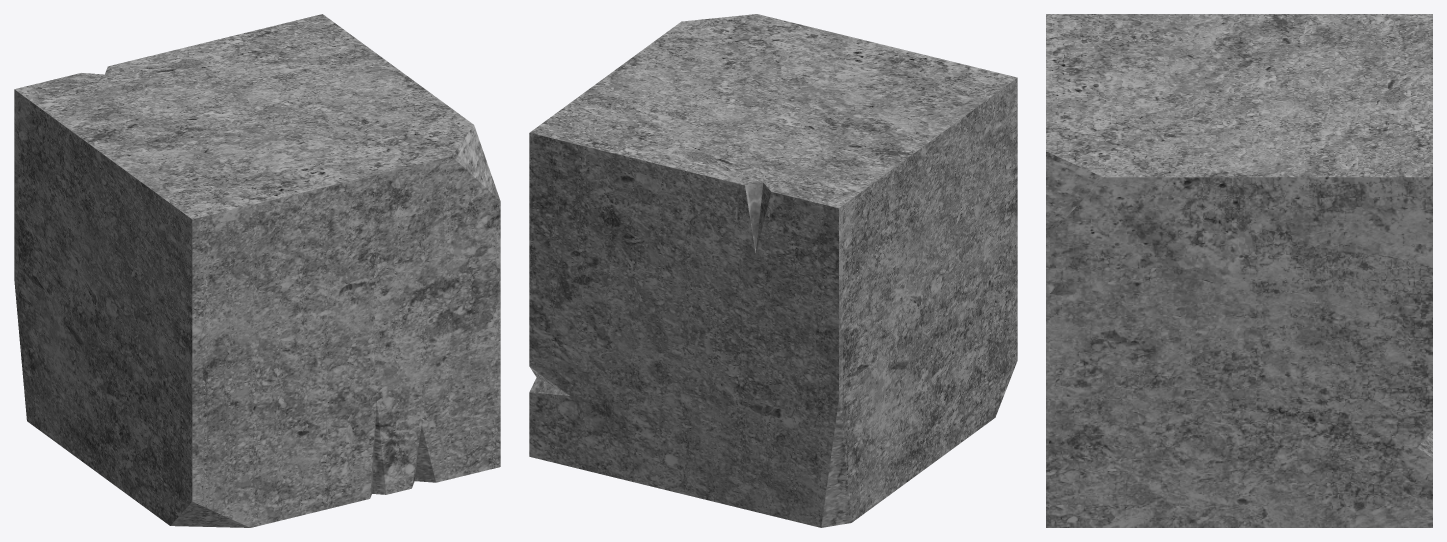
Rendered from basic cube2.fbx.
3 views of the same model, side by side, from view 1: azimuth 30°, elevation 25°; view 2: azimuth 150°, elevation 25°; view 3: azimuth 270°, elevation 25° (orthographic). The views are drawn at different scales.
Visible parts, largest first — view 1: Cube; view 2: Cube; view 3: Cube.
Part boxes in pixels (left/top/right/bottom): Cube: left=14, top=14, right=500, bottom=527; Cube: left=529, top=14, right=1017, bottom=527; Cube: left=1046, top=14, right=1432, bottom=527.
Bounding box in the file's own units: 95 × 95 × 95.
